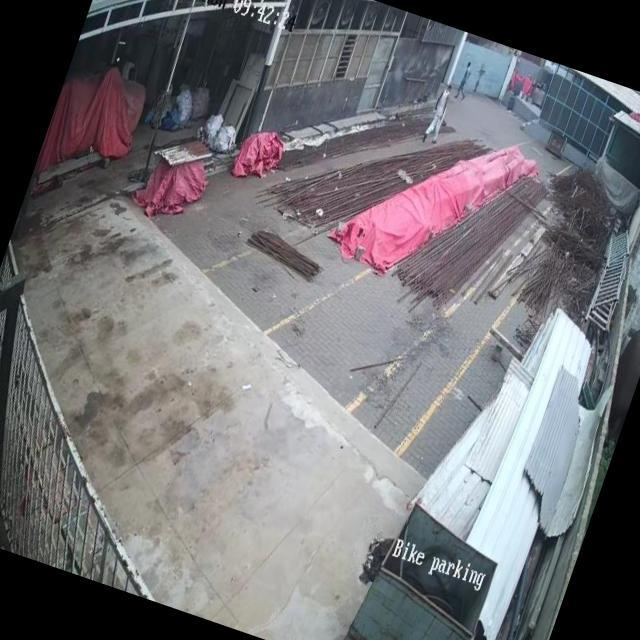person: (418, 75, 461, 148), (456, 59, 478, 96)
